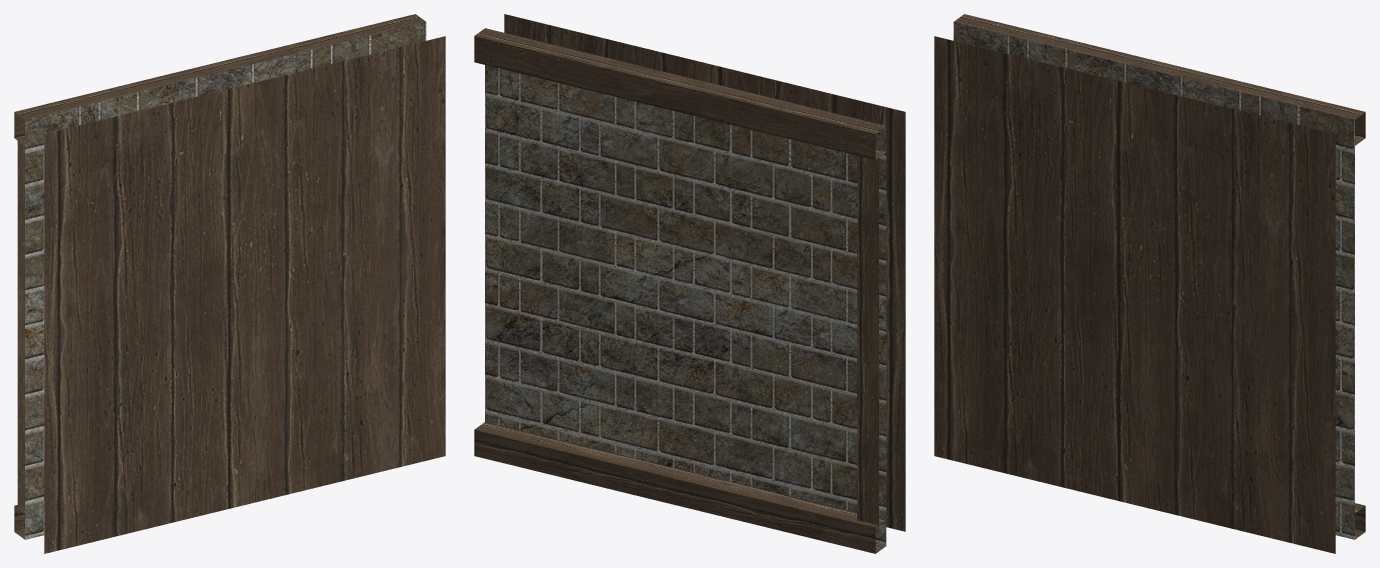
Rendered from ARC1010210.fbx.
3 views of the same model, side by side, from view 1: azimuth 30°, elevation 25°; view 2: azimuth 150°, elevation 25°; view 3: azimuth 330°, elevation 25° (orthographic).
Visible parts, largest first — view 1: smARC1010210; view 2: smARC1010210; view 3: smARC1010210.
Part boxes in pixels (box(x1,y1,x2,y2)): smARC1010210: box(14, 14, 445, 553); smARC1010210: box(474, 14, 905, 553); smARC1010210: box(934, 14, 1365, 553).
Bounding box in the file's own units: 268 × 268 × 34.9.
1 material, 1 textured.
